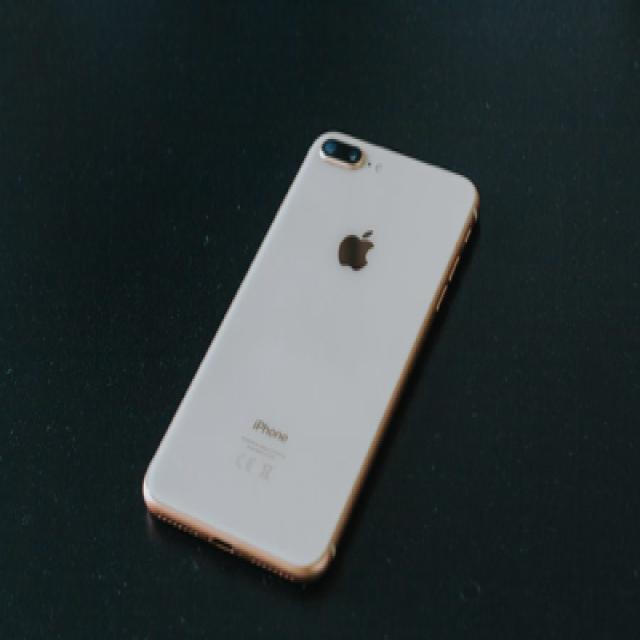cellphone: (141, 127, 478, 583)
